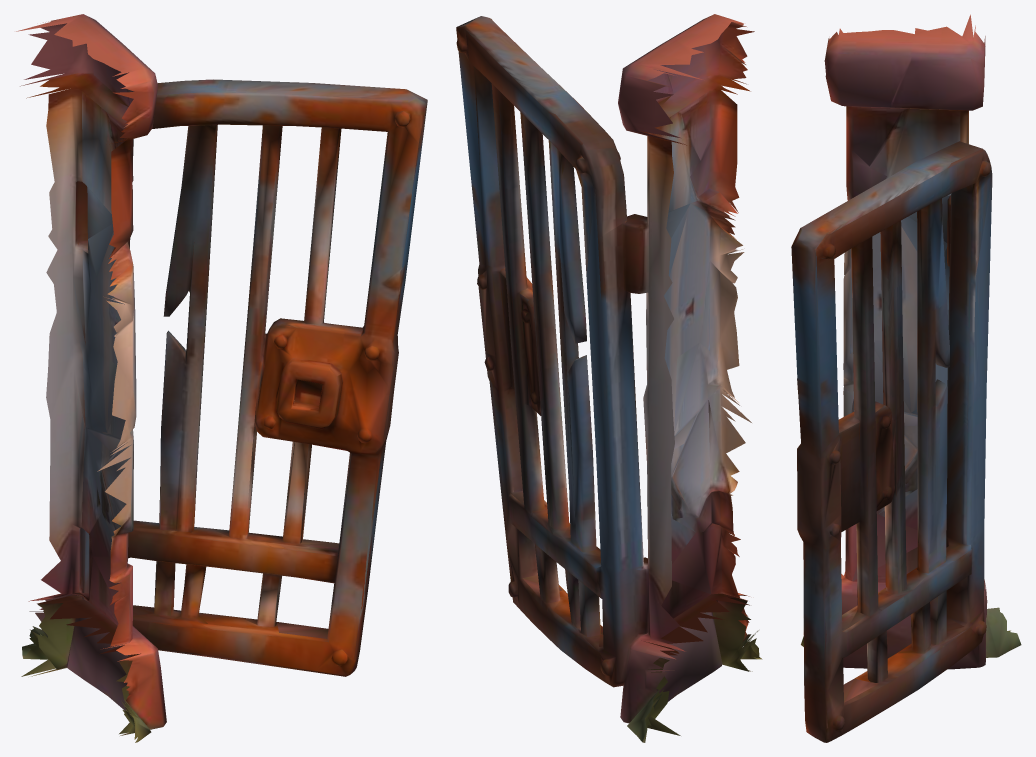
File: gate_2.glb
3 views of the same model, side by side, from view 1: azimuth 30°, elevation 25°; view 2: azimuth 150°, elevation 25°; view 3: azimuth 270°, elevation 25° (orthographic). The views are drawn at different scales.
Visible parts, largest first — view 1: gate_2; view 2: gate_2; view 3: gate_2.
Boxes of the visible parts, x1,y1,x2,y2 form: gate_2: (16, 14, 427, 742); gate_2: (456, 14, 762, 742); gate_2: (791, 14, 1021, 742).
Size of the model in its own units: 0.363 by 0.6877 by 0.232.
1 material, 1 textured.
